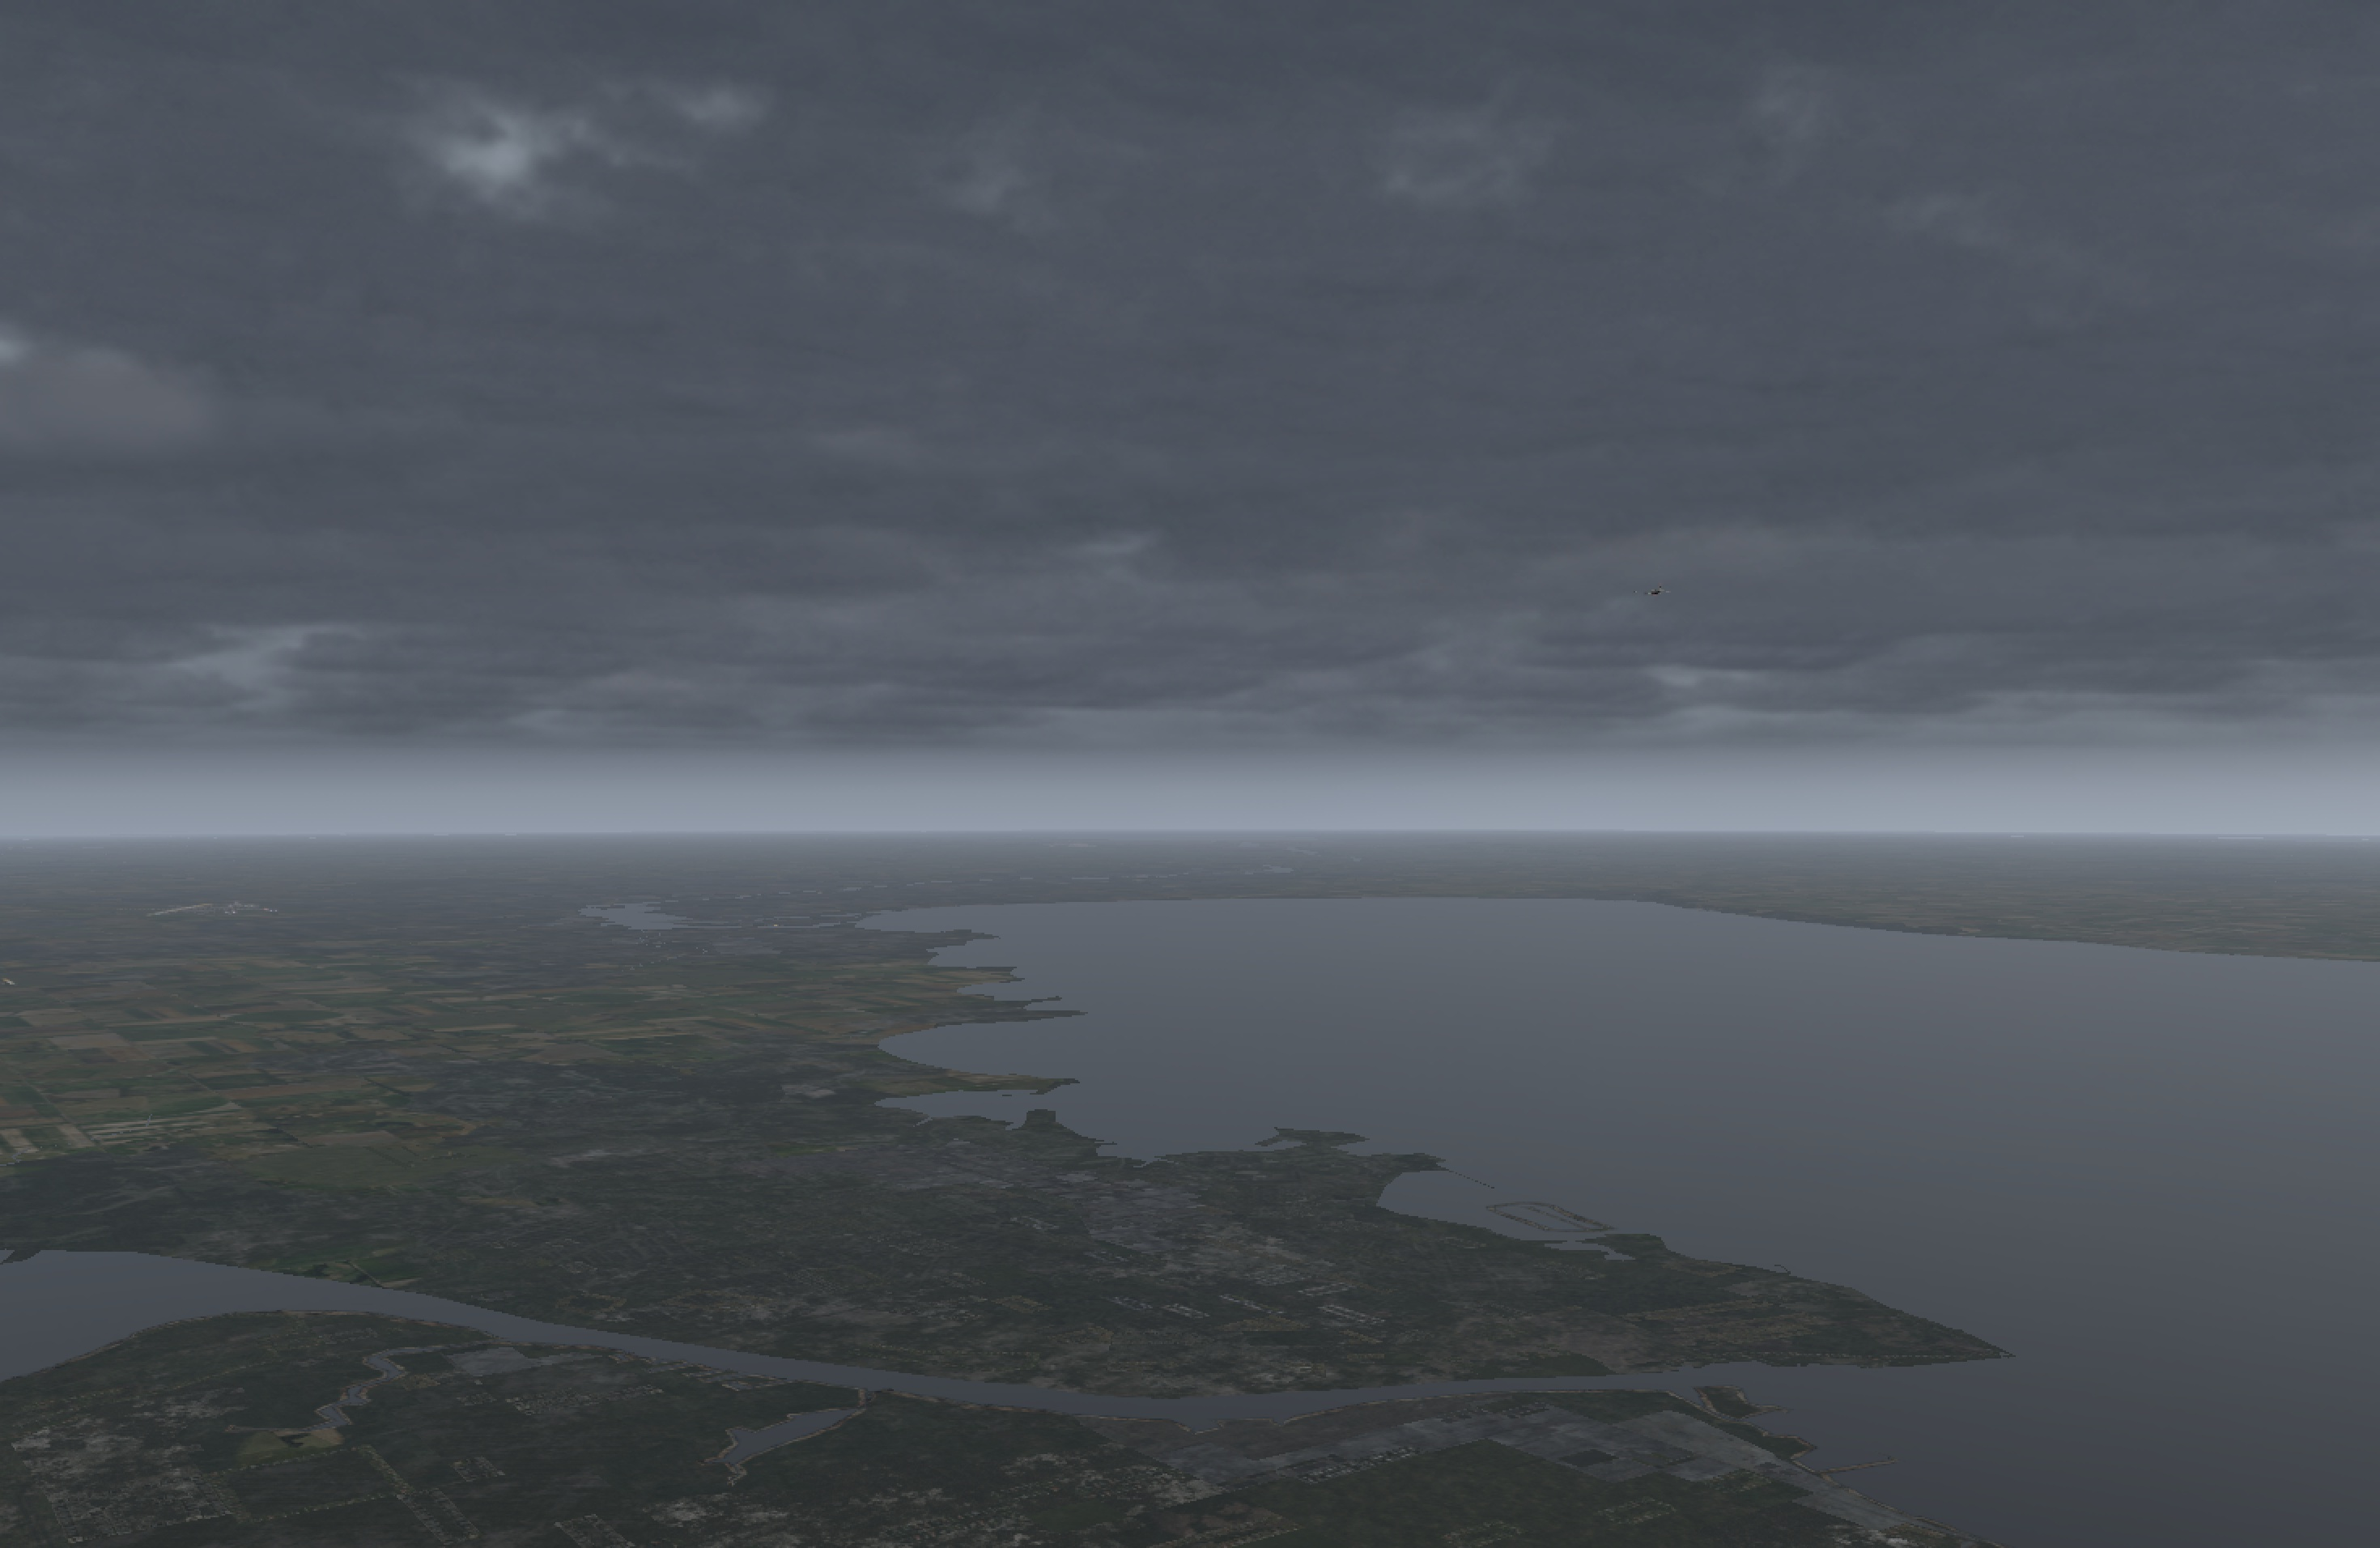aircraft: (1632, 587, 1674, 602)
